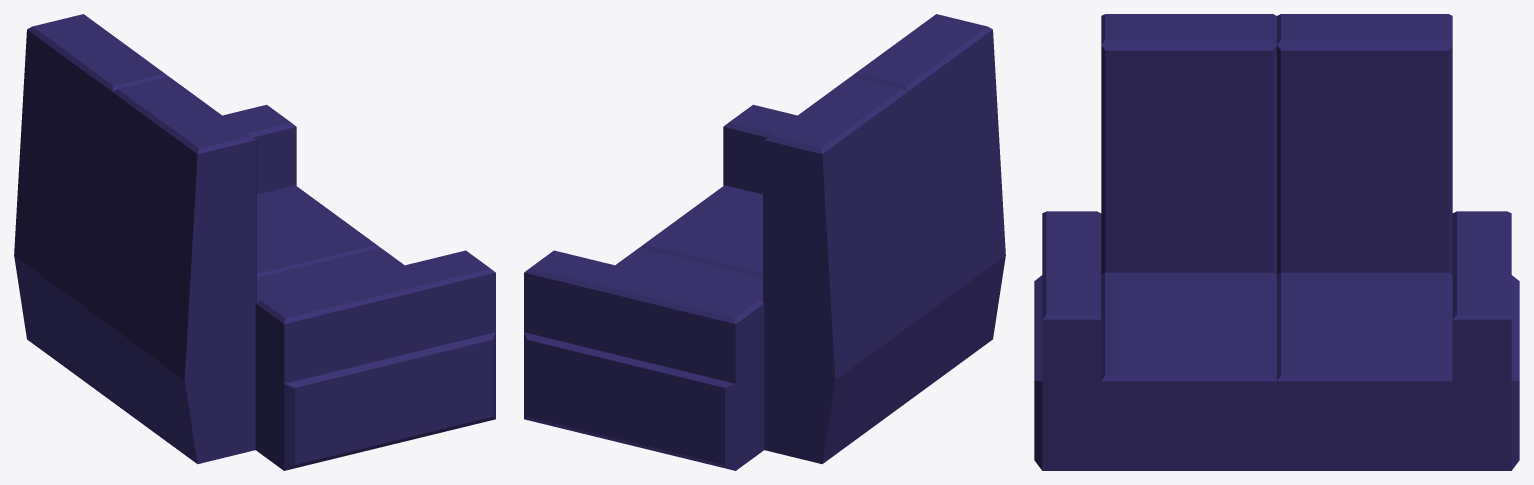
The model's file is sofa.fbx.
3 renders of one model, left to right at view 1: azimuth 30°, elevation 25°; view 2: azimuth 150°, elevation 25°; view 3: azimuth 270°, elevation 25°, orthographic. The views are drawn at different scales.
Visible parts, largest first — view 1: Cube; view 2: Cube; view 3: Cube.
Part boxes in pixels (x1,y1,x2,y2): Cube: [14, 14, 495, 470]; Cube: [524, 14, 1005, 470]; Cube: [1034, 14, 1519, 470].
Size of the model in its own units: 4156 by 4404 by 5996.
